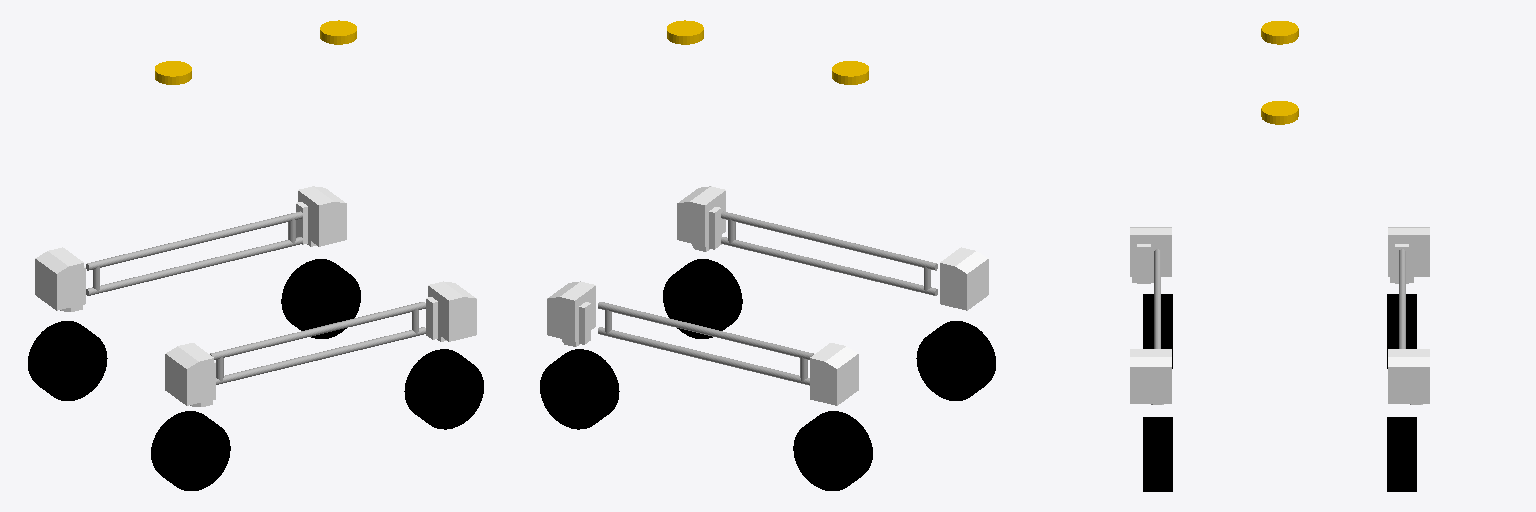
--- Render facts (derived) ---
The picture shows the robot from 3 angles, left to right: view 1: azimuth 30°, elevation 25°; view 2: azimuth 150°, elevation 25°; view 3: azimuth 270°, elevation 25°; orthographic projection.
Robot: thorvald_ii — 36 links, 35 joints (8 continuous, 27 fixed); root link /base_link; default pose: every joint at zero.
Visible links, largest first — view 1: /wheel0_link, /wheel1_link, /wheel3_link, /wheel2_link, /top3, /top0, /top1, /top2, /pipe1_2, /pipe0_2, /pipe1_1, /pipe0_1 (+2 smaller); view 2: /wheel2_link, /wheel3_link, /wheel0_link, /wheel1_link, /top2, /top1, /top0, /top3, /pipe0_2, /pipe1_2, /pipe0_1, /pipe1_1 (+2 smaller); view 3: /top1, /top2, /wheel1_link, /wheel2_link, /top0, /top3, /wheel0_link, /wheel3_link, gps_front, gps_back, /pipe0_2, /pipe1_2.
Link boxes in pixels (x1,y1,x2,y2): /wheel0_link: (151, 411, 230, 490); /wheel1_link: (404, 349, 483, 429); /wheel3_link: (28, 321, 107, 400); /wheel2_link: (281, 259, 360, 338); /top3: (35, 247, 85, 311); /top0: (165, 343, 215, 406); /top1: (426, 281, 476, 341); /top2: (296, 186, 346, 246); /pipe1_2: (86, 211, 302, 270); /pipe0_2: (210, 302, 425, 359); /pipe1_1: (86, 237, 302, 295); /pipe0_1: (216, 327, 425, 384); /wheel2_link: (540, 349, 619, 429); /wheel3_link: (793, 411, 872, 490); /wheel0_link: (916, 321, 995, 400); /wheel1_link: (663, 259, 742, 338); /top2: (547, 281, 595, 346); /top1: (677, 186, 725, 251); /top0: (940, 247, 988, 310); /top3: (810, 343, 858, 405); /pipe0_2: (721, 211, 937, 270); /pipe1_2: (598, 302, 813, 359); /pipe0_1: (721, 237, 937, 295); /pipe1_1: (598, 327, 809, 385); /top1: (1130, 349, 1171, 404); /top2: (1388, 349, 1429, 404); /wheel1_link: (1143, 417, 1172, 491); /wheel2_link: (1387, 417, 1416, 491); /top0: (1130, 227, 1171, 283); /top3: (1388, 227, 1429, 283); /wheel0_link: (1143, 294, 1172, 368); /wheel3_link: (1387, 294, 1416, 368); gps_front: (1261, 101, 1298, 124); gps_back: (1261, 21, 1298, 44); /pipe0_2: (1154, 249, 1160, 348); /pipe1_2: (1399, 249, 1405, 348).
Size in the robot's own frame: 1.96 by 1.62 by 2.12 metres.
4 mesh visuals loaded from 8 distinct referenced files (2 binary STL); not drawn: 17 (reference not matched to a file when rendering).

robot.urdf — thorvald_ii:
<?xml version="1.0" encoding="utf-8"?>

<robot name="thorvald_ii">
  <!-- <gazebo>
    <plugin filename="libthorvald_gazebo_plugins_synch.so" name="_thorvald_gazebo_plugins">
      <alwaysOn>true</alwaysOn>
      <updateRate>20</updateRate>
      <robotNamespace></robotNamespace>
      <commandTopic>base_state</commandTopic>
      <odometryTopic>odometry/gazebo</odometryTopic>
      <odometryFrame>/base_link</odometryFrame>
      <robotBaseFrame>/base_link</robotBaseFrame>
      <steering0>/steering0</steering0>
      <steering1>/steering1</steering1>
      <steering2>/steering2</steering2>
      <steering3>/steering3</steering3>
      <steering4>/steering4</steering4>
      <steering5>/steering5</steering5>
      <steering6>/steering6</steering6>
      <steering7>/steering7</steering7>
      <steering8>/steering8</steering8>
      <steering9>/steering9</steering9>
      <steering10>/steering10</steering10>
      <wheel0>/wheel0</wheel0>
      <wheel1>/wheel1</wheel1>
      <wheel2>/wheel2</wheel2>
      <wheel3>/wheel3</wheel3>
      <wheel4>/wheel4</wheel4>
      <wheel5>/wheel5</wheel5>
      <wheel6>/wheel6</wheel6>
      <wheel7>/wheel7</wheel7>
      <wheel8>/wheel8</wheel8>
      <wheel9>/wheel9</wheel9>
      <wheel10>/wheel10</wheel10>
    </plugin>
  </gazebo> -->
  <!--
    <alwaysOn>true</alwaysOn>
    <robotNamespace>thorvald_ii</robotNamespace>
    <steering2>steering2</steering2>
    <steering1>steering1</steering1>
    <steering3>steering3</steering3>
    <steering0>steering0</steering0>
    <publishOdometryMsg>true</publishOdometryMsg>
    <publishOdometryTf>true</publishOdometryTf>
    <robotBaseFrame>base_link</robotBaseFrame>
    <commandTopic>joint_commands</commandTopic>
    <odometryTopic>odom</odometryTopic>
    <odometryFrame>odom</odometryFrame>
    <updateRate>100.0</updateRate>
    <platform_width>0.570</platform_width>
    <wheel_radius>0.400</wheel_radius>
      <torque>5.0</torque>
    </plugin>
  </gazebo> -->
  <!-- MATERIAL DEFINITIONS -->
  <material name="white">
    <color rgba="1 1 1 1"/>
  </material>
  <material name="black">
    <color rgba="0 0 0 1"/>
  </material>
  <material name="red">
    <color rgba="1 0 0 1"/>
  </material>
  <material name="green">
    <color rgba="0 1 0 1"/>
  </material>
  <material name="alu">
    <color rgba="0.75 0.75 0.75 1"/>
  </material>
  <!-- CREATE ROBOT -->
  <!-- Create base link -->
  <link name="/base_link"/>
  <link name="/top0">
    <inertial>
      <mass value="10.21"/>
      <origin rpy="0 0 0" xyz="0 0 0"/>
      <inertia ixx="0.187252250833" ixy="0.0" ixz="0.0" iyy="0.209836770833" iyz="0.0" izz="0.119499541667"/>
    </inertial>
    <visual>
      <geometry>
        <mesh filename="package://loki_description/meshes/tower_modules/DUMMY-TOWER-M.stl"/>
        <box size="0.265 0.209 0.42"/>
      </geometry>
      <material name="white"/>
    </visual>
    <collision>
      <geometry>
        <mesh filename="package://loki_description/meshes/tower_modules/DUMMY-TOWER-M.stl"/>
        <box size="0.265 0.209 0.42"/>
      </geometry>
    </collision>
  </link>
  <joint name="/base_linktop0" type="fixed">
    <parent link="/base_link"/>
    <child link="/top0"/>
    <origin rpy="0 0 3.14159265359" xyz="-0.782 -0.658 0.65"/>
    <axis xyz="0 0 1"/>
  </joint>
  <link name="/leg0">
    <inertial>
      <mass value="15.64"/>
      <origin rpy="0 0 0" xyz="0 0 0"/>
      <inertia ixx="0.035581" ixy="0.0" ixz="0.0" iyy="0.035581" iyz="0.0" izz="0.012512"/>
    </inertial>
    <visual>
      <origin rpy="0 0 3.14159265359" xyz="0 0 0"/>
      <geometry>
        <mesh filename="package://loki_description/meshes/drive_modules/836745-5-DUMMY-RevA.stl"/>
        <cylinder length="-0.15" radius="0.04"/>
        <!--mesh filename="package://thorvald_base/meshes/top_chassis.dae"/-->
      </geometry>
      <material name="white"/>
    </visual>
    <collision>
      <origin rpy="0 0 3.14159265359" xyz="0 0 0"/>
      <geometry>
        <mesh filename="package://loki_description/meshes/drive_modules/836745-5-DUMMY-RevA.stl"/>
        <cylinder length="-0.15" radius="0.04"/>
      </geometry>
    </collision>
  </link>
  <joint name="/steering0" type="continuous">
    <parent link="/base_link"/>
    <child link="/leg0"/>
    <origin rpy="0 0 0" xyz="-0.782 -0.658 0.2"/>
    <axis xyz="0 0 1"/>
    <dynamics damping="100" friction="10000"/>
  </joint>
  <transmission name="steering0_tran">
    <type>transmission_interface/SimpleTransmission</type>
    <joint name="/steering0">
      <hardwareInterface>hardware_interface/EffortJointInterface</hardwareInterface>
    </joint>
    <actuator name="steering0_motor">
      <hardwareInterface>hardware_interface/EffortJointInterface</hardwareInterface>
      <mechanicalReduction>1</mechanicalReduction>
    </actuator>
  </transmission>
  <link name="/wheel0_link">
    <inertial>
      <mass value="6.0"/>
      <origin rpy="0 0 0" xyz="0 0 0"/>
      <inertia ixx="0.0728" ixy="0.0" ixz="0.0" iyy="0.0728" iyz="0.0" izz="0.12"/>
    </inertial>
    <visual>
      <geometry>
        <cylinder length="0.16" radius="0.2"/>
        <!-- <box size = "0.00001 0.00001 0.00001"/> -->
      </geometry>
      <material name="black"/>
    </visual>
    <collision>
      <geometry>
        <cylinder length="0.16" radius="0.2"/>
        <!-- <box size = "0.00001 0.00001 0.00001"/> -->
      </geometry>
    </collision>
  </link>
  <gazebo reference="/wheel0_link">
    <material>Gazebo/Black</material>
    <mu1 value="2"/>
    <mu2 value="2"/>
  </gazebo>
  <joint name="/wheel0" type="continuous">
    <parent link="/leg0"/>
    <child link="/wheel0_link"/>
    <origin rpy="-1.57079632679 0 0" xyz="0 0 0"/>
    <axis xyz="0 0 1"/>
    <dynamics damping="100" friction="1000"/>
  </joint>
  <transmission name="wheel0_tran">
    <type>transmission_interface/SimpleTransmission</type>
    <joint name="/wheel0">
      <hardwareInterface>hardware_interface/EffortJointInterface</hardwareInterface>
    </joint>
    <actuator name="wheel0_motor">
      <hardwareInterface>hardware_interface/EffortJointInterface</hardwareInterface>
      <mechanicalReduction>1</mechanicalReduction>
    </actuator>
  </transmission>
  <!-- -->
  <!--
    <link name="$(arg tf_prefix)/rod_l_${wheel}">
      <visual>
        <geometry>
          <cylinder length="20" radius="0.01"/>
        </geometry>
	<material name="red" />
      </visual>
    </link>
      
    
    <joint name="$(arg tf_prefix)/rod_l_${wheel}" type="fixed">
      <parent link="$(arg tf_prefix)/${wheel}_link"/>
      <child link="$(arg tf_prefix)/rod_l_${wheel}"/>
      <origin xyz="0 0 10" rpy="0 0 0"/>
      <axis xyz="0 0 1"/>
    </joint>

    <link name="$(arg tf_prefix)/rod_r_${wheel}">
      <visual>
        <geometry>
          <cylinder length="20" radius="0.01"/>
        </geometry>
	<material name="green" />
      </visual>
    </link>
    
    <joint name="$(arg tf_prefix)/rod_r_${wheel}" type="fixed">
      <parent link="$(arg tf_prefix)/${wheel}_link"/>
      <child link="$(arg tf_prefix)/rod_r_${wheel}"/>
      <origin xyz="0 0 -10" rpy="0 0 0"/>
      <axis xyz="0 0 1"/>
    </joint>



    <link name="$(arg tf_prefix)/rod2_l_${wheel}">
      <visual>
        <geometry>
          <cylinder length="80" radius="0.01"/>
        </geometry>
	<material name="red" />
      </visual>
    </link>

    <joint name="$(arg tf_prefix)/rod2_l_${wheel}" type="fixed">
      <parent link="$(arg tf_prefix)/rod_l_${wheel}"/>
      <child link="$(arg tf_prefix)/rod2_l_${wheel}"/>
      <origin xyz="0 0 40" rpy="0 0 0"/>
      <axis xyz="0 0 1"/>
    </joint>

    <link name="$(arg tf_prefix)/rod2_r_${wheel}">
      <visual>
        <geometry>
          <cylinder length="80" radius="0.01"/>
        </geometry>
	<material name="green" />
      </visual>
    </link>
    
    <joint name="$(arg tf_prefix)/rod2_r_${wheel}" type="fixed">
      <parent link="$(arg tf_prefix)/rod_r_${wheel}"/>
      <child link="$(arg tf_prefix)/rod2_r_${wheel}"/>
      <origin xyz="0 0 -40" rpy="0 0 0"/>
      <axis xyz="0 0 1"/>
    </joint>
    -->
  <!-- -->
  <link name="/top1">
    <inertial>
      <mass value="10.21"/>
      <origin rpy="0 0 0" xyz="0 0 0"/>
      <inertia ixx="0.187252250833" ixy="0.0" ixz="0.0" iyy="0.209836770833" iyz="0.0" izz="0.119499541667"/>
    </inertial>
    <visual>
      <geometry>
        <mesh filename="package://loki_description/meshes/tower_modules/DUMMY-TOWER-MIRROR-M.stl"/>
        <box size="0.265 0.209 0.42"/>
      </geometry>
      <material name="white"/>
    </visual>
    <collision>
      <geometry>
        <mesh filename="package://loki_description/meshes/tower_modules/DUMMY-TOWER-MIRROR-M.stl"/>
        <box size="0.265 0.209 0.42"/>
      </geometry>
    </collision>
  </link>
  <joint name="/base_linktop1" type="fixed">
    <parent link="/base_link"/>
    <child link="/top1"/>
    <origin rpy="0 0 0" xyz="0.782 -0.658 0.65"/>
    <axis xyz="0 0 1"/>
  </joint>
  <link name="/leg1">
    <inertial>
      <mass value="15.64"/>
      <origin rpy="0 0 0" xyz="0 0 0"/>
      <inertia ixx="0.035581" ixy="0.0" ixz="0.0" iyy="0.035581" iyz="0.0" izz="0.012512"/>
    </inertial>
    <visual>
      <origin rpy="0 0 0" xyz="0 0 0"/>
      <geometry>
        <mesh filename="package://loki_description/meshes/drive_modules/836745-5-DUMMY-MIRROR-RevA.stl"/>
        <cylinder length="-0.15" radius="0.04"/>
        <!--mesh filename="package://thorvald_base/meshes/top_chassis.dae"/-->
      </geometry>
      <material name="white"/>
    </visual>
    <collision>
      <origin rpy="0 0 0" xyz="0 0 0"/>
      <geometry>
        <mesh filename="package://loki_description/meshes/drive_modules/836745-5-DUMMY-MIRROR-RevA.stl"/>
        <cylinder length="-0.15" radius="0.04"/>
      </geometry>
    </collision>
  </link>
  <joint name="/steering1" type="continuous">
    <parent link="/base_link"/>
    <child link="/leg1"/>
    <origin rpy="0 0 0" xyz="0.782 -0.658 0.2"/>
    <axis xyz="0 0 1"/>
    <dynamics damping="100" friction="10000"/>
  </joint>
  <transmission name="steering1_tran">
    <type>transmission_interface/SimpleTransmission</type>
    <joint name="/steering1">
      <hardwareInterface>hardware_interface/EffortJointInterface</hardwareInterface>
    </joint>
    <actuator name="steering1_motor">
      <hardwareInterface>hardware_interface/EffortJointInterface</hardwareInterface>
      <mechanicalReduction>1</mechanicalReduction>
    </actuator>
  </transmission>
  <link name="/wheel1_link">
    <inertial>
      <mass value="6.0"/>
      <origin rpy="0 0 0" xyz="0 0 0"/>
      <inertia ixx="0.0728" ixy="0.0" ixz="0.0" iyy="0.0728" iyz="0.0" izz="0.12"/>
    </inertial>
    <visual>
      <geometry>
        <cylinder length="0.16" radius="0.2"/>
        <!-- <box size = "0.00001 0.00001 0.00001"/> -->
      </geometry>
      <material name="black"/>
    </visual>
    <collision>
      <geometry>
        <cylinder length="0.16" radius="0.2"/>
        <!-- <box size = "0.00001 0.00001 0.00001"/> -->
      </geometry>
    </collision>
  </link>
  <gazebo reference="/wheel1_link">
    <material>Gazebo/Black</material>
    <mu1 value="2"/>
    <mu2 value="2"/>
  </gazebo>
  <joint name="/wheel1" type="continuous">
    <parent link="/leg1"/>
    <child link="/wheel1_link"/>
    <origin rpy="-1.57079632679 0 0" xyz="0 0 0"/>
    <axis xyz="0 0 1"/>
    <dynamics damping="100" friction="1000"/>
  </joint>
  <transmission name="wheel1_tran">
    <type>transmission_interface/SimpleTransmission</type>
    <joint name="/wheel1">
      <hardwareInterface>hardware_interface/EffortJointInterface</hardwareInterface>
    </joint>
    <actuator name="wheel1_motor">
      <hardwareInterface>hardware_interface/EffortJointInterface</hardwareInterface>
      <mechanicalReduction>1</mechanicalReduction>
    </actuator>
  </transmission>
  <!-- -->
  <!--
    <link name="$(arg tf_prefix)/rod_l_${wheel}">
      <visual>
        <geometry>
          <cylinder length="20" radius="0.01"/>
        </geometry>
	<material name="red" />
      </visual>
    </link>
      
    
    <joint name="$(arg tf_prefix)/rod_l_${wheel}" type="fixed">
      <parent link="$(arg tf_prefix)/${wheel}_link"/>
      <child link="$(arg tf_prefix)/rod_l_${wheel}"/>
      <origin xyz="0 0 10" rpy="0 0 0"/>
      <axis xyz="0 0 1"/>
    </joint>

    <link name="$(arg tf_prefix)/rod_r_${wheel}">
      <visual>
        <geometry>
          <cylinder length="20" radius="0.01"/>
        </geometry>
	<material name="green" />
      </visual>
    </link>
    
    <joint name="$(arg tf_prefix)/rod_r_${wheel}" type="fixed">
      <parent link="$(arg tf_prefix)/${wheel}_link"/>
      <child link="$(arg tf_prefix)/rod_r_${wheel}"/>
      <origin xyz="0 0 -10" rpy="0 0 0"/>
      <axis xyz="0 0 1"/>
    </joint>



    <link name="$(arg tf_prefix)/rod2_l_${wheel}">
      <visual>
        <geometry>
          <cylinder length="80" radius="0.01"/>
        </geometry>
	<material name="red" />
      </visual>
    </link>

    <joint name="$(arg tf_prefix)/rod2_l_${wheel}" type="fixed">
      <parent link="$(arg tf_prefix)/rod_l_${wheel}"/>
      <child link="$(arg tf_prefix)/rod2_l_${wheel}"/>
      <origin xyz="0 0 40" rpy="0 0 0"/>
      <axis xyz="0 0 1"/>
    </joint>

    <link name="$(arg tf_prefix)/rod2_r_${wheel}">
      <visual>
        <geometry>
          <cylinder length="80" radius="0.01"/>
        </geometry>
	<material name="green" />
      </visual>
    </link>
    
    <joint name="$(arg tf_prefix)/rod2_r_${wheel}" type="fixed">
      <parent link="$(arg tf_prefix)/rod_r_${wheel}"/>
      <child link="$(arg tf_prefix)/rod2_r_${wheel}"/>
      <origin xyz="0 0 -40" rpy="0 0 0"/>
      <axis xyz="0 0 1"/>
    </joint>
    -->
  <!-- -->
  <link name="/top2">
    <inertial>
      <mass value="10.21"/>
      <origin rpy="0 0 0" xyz="0 0 0"/>
      <inertia ixx="0.187252250833" ixy="0.0" ixz="0.0" iyy="0.209836770833" iyz="0.0" izz="0.119499541667"/>
    </inertial>
    <visual>
      <geometry>
        <mesh filename="package://loki_description/meshes/tower_modules/DUMMY-TOWER-M.stl"/>
        <box size="0.265 0.209 0.42"/>
      </geometry>
      <material name="white"/>
    </visual>
    <collision>
      <geometry>
        <mesh filename="package://loki_description/meshes/tower_modules/DUMMY-TOWER-M.stl"/>
        <box size="0.265 0.209 0.42"/>
      </geometry>
    </collision>
  </link>
  <joint name="/base_linktop2" type="fixed">
    <parent link="/base_link"/>
    <child link="/top2"/>
    <origin rpy="0 0 0" xyz="0.782 0.658 0.65"/>
    <axis xyz="0 0 1"/>
  </joint>
  <link name="/leg2">
    <inertial>
      <mass value="15.64"/>
      <origin rpy="0 0 0" xyz="0 0 0"/>
      <inertia ixx="0.035581" ixy="0.0" ixz="0.0" iyy="0.035581" iyz="0.0" izz="0.012512"/>
    </inertial>
    <visual>
      <origin rpy="0 0 0" xyz="0 0 0"/>
      <geometry>
        <mesh filename="package://loki_description/meshes/drive_modules/836745-5-DUMMY-RevA.stl"/>
        <cylinder length="-0.15" radius="0.04"/>
        <!--mesh filename="package://thorvald_base/meshes/top_chassis.dae"/-->
      </geometry>
      <material name="white"/>
    </visual>
    <collision>
      <origin rpy="0 0 0" xyz="0 0 0"/>
      <geometry>
        <mesh filename="package://loki_description/meshes/drive_modules/836745-5-DUMMY-RevA.stl"/>
        <cylinder length="-0.15" radius="0.04"/>
      </geometry>
    </collision>
  </link>
  <joint name="/steering2" type="continuous">
    <parent link="/base_link"/>
    <child link="/leg2"/>
    <origin rpy="0 0 0" xyz="0.782 0.658 0.2"/>
    <axis xyz="0 0 1"/>
    <dynamics damping="100" friction="10000"/>
  </joint>
  <transmission name="steering2_tran">
    <type>transmission_interface/SimpleTransmission</type>
    <joint name="/steering2">
      <hardwareInterface>hardware_interface/EffortJointInterface</hardwareInterface>
    </joint>
    <actuator name="steering2_motor">
      <hardwareInterface>hardware_interface/EffortJointInterface</hardwareInterface>
      <mechanicalReduction>1</mechanicalReduction>
    </actuator>
  </transmission>
  <link name="/wheel2_link">
    <inertial>
      <mass value="6.0"/>
      <origin rpy="0 0 0" xyz="0 0 0"/>
      <inertia ixx="0.0728" ixy="0.0" ixz="0.0" iyy="0.0728" iyz="0.0" izz="0.12"/>
    </inertial>
    <visual>
      <geometry>
        <cylinder length="0.16" radius="0.2"/>
        <!-- <box size = "0.00001 0.00001 0.00001"/> -->
      </geometry>
      <material name="black"/>
    </visual>
    <collision>
      <geometry>
        <cylinder length="0.16" radius="0.2"/>
        <!-- <box size = "0.00001 0.00001 0.00001"/> -->
      </geometry>
    </collision>
  </link>
  <gazebo reference="/wheel2_link">
    <material>Gazebo/Black</material>
    <mu1 value="2"/>
    <mu2 value="2"/>
  </gazebo>
  <joint name="/wheel2" type="continuous">
    <parent link="/leg2"/>
    <child link="/wheel2_link"/>
    <origin rpy="-1.57079632679 0 0" xyz="0 0 0"/>
    <axis xyz="0 0 1"/>
    <dynamics damping="100" friction="1000"/>
  </joint>
  <transmission name="wheel2_tran">
    <type>transmission_interface/SimpleTransmission</type>
    <joint name="/wheel2">
      <hardwareInterface>hardware_interface/EffortJointInterface</hardwareInterface>
    </joint>
    <actuator name="wheel2_motor">
      <hardwareInterface>hardware_interface/EffortJointInterface</hardwareInterface>
      <mechanicalReduction>1</mechanicalReduction>
    </actuator>
  </transmission>
  <!-- -->
  <!--
    <link name="$(arg tf_prefix)/rod_l_${wheel}">
      <visual>
        <geometry>
          <cylinder length="20" radius="0.01"/>
        </geometry>
	<material name="red" />
      </visual>
    </link>
      
    
    <joint name="$(arg tf_prefix)/rod_l_${wheel}" type="fixed">
      <parent link="$(arg tf_prefix)/${wheel}_link"/>
      <child link="$(arg tf_prefix)/rod_l_${wheel}"/>
      <origin xyz="0 0 10" rpy="0 0 0"/>
      <axis xyz="0 0 1"/>
    </joint>

    <link name="$(arg tf_prefix)/rod_r_${wheel}">
      <visual>
        <geometry>
          <cylinder length="20" radius="0.01"/>
        </geometry>
	<material name="green" />
      </visual>
    </link>
    
    <joint name="$(arg tf_prefix)/rod_r_${wheel}" type="fixed">
      <parent link="$(arg tf_prefix)/${wheel}_link"/>
      <child link="$(arg tf_prefix)/rod_r_${wheel}"/>
      <origin xyz="0 0 -10" rpy="0 0 0"/>
      <axis xyz="0 0 1"/>
    </joint>



    <link name="$(arg tf_prefix)/rod2_l_${wheel}">
      <visual>
        <geometry>
          <cylinder length="80" radius="0.01"/>
        </geometry>
	<material name="red" />
      </visual>
    </link>

    <joint name="$(arg tf_prefix)/rod2_l_${wheel}" type="fixed">
      <parent link="$(arg tf_prefix)/rod_l_${wheel}"/>
      <child link="$(arg tf_prefix)/rod2_l_${wheel}"/>
      <origin xyz="0 0 40" rpy="0 0 0"/>
      <axis xyz="0 0 1"/>
    </joint>

    <link name="$(arg tf_prefix)/rod2_r_${wheel}">
      <visual>
        <geometry>
          <cylinder length="80" radius="0.01"/>
        </geometry>
	<material name="green" />
      </visual>
    </link>
    
    <joint name="$(arg tf_prefix)/rod2_r_${wheel}" type="fixed">
      <parent link="$(arg tf_prefix)/rod_r_${wheel}"/>
      <child link="$(arg tf_prefix)/rod2_r_${wheel}"/>
      <origin xyz="0 0 -40" rpy="0 0 0"/>
      <axis xyz="0 0 1"/>
    </joint>
    -->
  <!-- -->
  <link name="/top3">
    <inertial>
      <mass value="10.21"/>
      <origin rpy="0 0 0" xyz="0 0 0"/>
      <inertia ixx="0.187252250833" ixy="0.0" ixz="0.0" iyy="0.209836770833" iyz="0.0" izz="0.119499541667"/>
    </inertial>
    <visual>
      <geometry>
        <mesh filename="package://loki_description/meshes/tower_modules/DUMMY-TOWER-MIRROR-M.stl"/>
        <box size="0.265 0.209 0.42"/>
      </geometry>
      <material name="white"/>
    </visual>
    <collision>
      <geometry>
        <mesh filename="package://loki_description/meshes/tower_modules/DUMMY-TOWER-MIRROR-M.stl"/>
        <box size="0.265 0.209 0.42"/>
      </geometry>
    </collision>
  </link>
  <joint name="/base_linktop3" type="fixed">
    <parent link="/base_link"/>
    <child link="/top3"/>
    <origin rpy="0 0 3.14159265359" xyz="-0.782 0.658 0.65"/>
    <axis xyz="0 0 1"/>
  </joint>
  <link name="/leg3">
    <inertial>
      <mass value="15.64"/>
      <origin rpy="0 0 0" xyz="0 0 0"/>
      <inertia ixx="0.035581" ixy="0.0" ixz="0.0" iyy="0.035581" iyz="0.0" izz="0.012512"/>
    </inertial>
    <visual>
      <origin rpy="0 0 3.14159265359" xyz="0 0 0"/>
      <geometry>
        <mesh filename="package://loki_description/meshes/drive_modules/836745-5-DUMMY-MIRROR-RevA.stl"/>
        <cylinder length="-0.15" radius="0.04"/>
        <!--mesh filename="package://thorvald_base/meshes/top_chassis.dae"/-->
      </geometry>
      <material name="white"/>
    </visual>
    <collision>
      <origin rpy="0 0 3.14159265359" xyz="0 0 0"/>
      <geometry>
        <mesh filename="package://loki_description/meshes/drive_modules/836745-5-DUMMY-MIRROR-RevA.stl"/>
        <cylinder length="-0.15" radius="0.04"/>
      </geometry>
    </collision>
  </link>
  <joint name="/steering3" type="continuous">
    <parent link="/base_link"/>
    <child link="/leg3"/>
    <origin rpy="0 0 0" xyz="-0.782 0.658 0.2"/>
    <axis xyz="0 0 1"/>
    <dynamics damping="100" friction="10000"/>
  </joint>
  <transmission name="steering3_tran">
    <type>transmission_interface/SimpleTransmission</type>
    <joint name="/steering3">
      <hardwareInterface>hardware_interface/EffortJointInterface</hardwareInterface>
    </joint>
    <actuator name="steering3_motor">
      <hardwareInterface>hardware_interface/EffortJointInterface</hardwareInterface>
      <mechanicalReduction>1</mechanicalReduction>
    </actuator>
  </transmission>
  <link name="/wheel3_link">
    <inertial>
      <mass value="6.0"/>
      <origin rpy="0 0 0" xyz="0 0 0"/>
      <inertia ixx="0.0728" ixy="0.0" ixz="0.0" iyy="0.0728" iyz="0.0" izz="0.12"/>
    </inertial>
    <visual>
      <geometry>
        <cylinder length="0.16" radius="0.2"/>
        <!-- <box size = "0.00001 0.00001 0.00001"/> -->
      </geometry>
      <material name="black"/>
    </visual>
    <collision>
      <geometry>
        <cylinder length="0.16" radius="0.2"/>
        <!-- <box size = "0.00001 0.00001 0.00001"/> -->
      </geometry>
    </collision>
  </link>
  <gazebo reference="/wheel3_link">
    <material>Gazebo/Black</material>
    <mu1 value="2"/>
    <mu2 value="2"/>
  </gazebo>
  <joint name="/wheel3" type="continuous">
    <parent link="/leg3"/>
    <child link="/wheel3_link"/>
    <origin rpy="-1.57079632679 0 0" xyz="0 0 0"/>
    <axis xyz="0 0 1"/>
    <dynamics damping="100" friction="1000"/>
  </joint>
  <transmission name="wheel3_tran">
    <type>transmission_interface/SimpleTransmission</type>
    <joint name="/wheel3">
      <hardwareInterface>hardware_interface/EffortJointInterface</hardwareInterface>
    </joint>
    <actuator name="wheel3_motor">
      <hardwareInterface>hardware_interface/EffortJointInterface</hardwareInterface>
      <mechanicalReduction>1</mechanicalReduction>
    </actuator>
  </transmission>
  <!-- -->
  <!--
    <link name="$(arg tf_prefix)/rod_l_${wheel}">
      <visual>
        <geometry>
          <cylinder length="20" radius="0.01"/>
        </geometry>
	<material name="red" />
      </visual>
    </link>
      
    
    <joint name="$(arg tf_prefix)/rod_l_${wheel}" type="fixed">
      <parent link="$(arg tf_prefix)/${wheel}_link"/>
      <child link="$(arg tf_prefix)/rod_l_${wheel}"/>
      <origin xyz="0 0 10" rpy="0 0 0"/>
      <axis xyz="0 0 1"/>
    </joint>

    <link name="$(arg tf_prefix)/rod_r_${wheel}">
      <visual>
        <geometry>
          <cylinder length="20" radius="0.01"/>
        </geometry>
	<material name="green" />
      </visual>
    </link>
    
    <joint name="$(arg tf_prefix)/rod_r_${wheel}" type="fixed">
      <parent link="$(arg tf_prefix)/${wheel}_link"/>
      <child link="$(arg tf_prefix)/rod_r_${wheel}"/>
      <origin xyz="0 0 -10" rpy="0 0 0"/>
      <axis xyz="0 0 1"/>
    </joint>



    <link name="$(arg tf_prefix)/rod2_l_${wheel}">
      <visual>
        <geometry>
          <cylinder length="80" radius="0.01"/>
        </geometry>
	<material name="red" />
      </visual>
    </link>

    <joint name="$(arg tf_prefix)/rod2_l_${wheel}" type="fixed">
      <parent link="$(arg tf_prefix)/rod_l_${wheel}"/>
      <child link="$(arg tf_prefix)/rod2_l_${wheel}"/>
      <origin xyz="0 0 40" rpy="0 0 0"/>
      <axis xyz="0 0 1"/>
    </joint>

    <link name="$(arg tf_prefix)/rod2_r_${wheel}">
      <visual>
        <geometry>
          <cylinder length="80" radius="0.01"/>
        </geometry>
	<material name="green" />
      </visual>
    </link>
    
    <joint name="$(arg tf_prefix)/rod2_r_${wheel}" type="fixed">
      <parent link="$(arg tf_prefix)/rod_r_${wheel}"/>
      <child link="$(arg tf_prefix)/rod2_r_${wheel}"/>
      <origin xyz="0 0 -40" rpy="0 0 0"/>
      <axis xyz="0 0 1"/>
    </joint>
    -->
  <!-- -->
  <link name="/corner0_1">
    <inertial>
      <mass value="0.915"/>
      <origin rpy="0 0 0" xyz="0 0 0"/>
      <inertia ixx="0.001282525" ixy="0.0" ixz="0.0" iyy="0.001751005" iyz="0.0" izz="0.002989"/>
    </inertial>
    <visual>
      <geometry>
        <mesh filename="package://loki_description/meshes/clamps/DUMMY-T-BRACKET.stl"/>
        <box size="0.140 0.116 0.058"/>
      </geometry>
      <material name="alu"/>
    </visual>
    <collision>
      <geometry>
        <box size="0.140 0.116 0.058"/>
      </geometry>
    </collision>
  </link>
  <link name="/corner0_2">
    <inertial>
      <mass value="0.915"/>
      <origin rpy="0 0 0" xyz="0 0 0"/>
      <inertia ixx="0.001282525" ixy="0.0" ixz="0.0" iyy="0.001751005" iyz="0.0" izz="0.002989"/>
    </inertial>
    <visual>
      <geometry>
        <mesh filename="package://loki_description/meshes/clamps/DUMMY-T-BRACKET.stl"/>
        <box size="0.140 0.116 0.058"/>
      </geometry>
      <material name="alu"/>
    </visual>
    <collision>
      <geometry>
        <box size="0.140 0.116 0.058"/>
      </geometry>
    </collision>
  </link>
  <link name="/corner0">
    <inertial>
      <mass value="0.915"/>
      <origin rpy="0 0 0" xyz="0 0 0"/>
      <inertia ixx="0.001807125" ixy="0.0" ixz="0.0" iyy="0.001807125" iyz="0.0" izz="0.000183"/>
    </inertial>
    <visual>
      <geometry>
        <cylinder length="0.15" radius="0.02"/>
        <!-- <box size = "0.00001 0.00001 0.00001" /> -->
      </geometry>
      <material name="alu"/>
    </visual>
    <collision>
      <geometry>
        <cylinder length="0.15" radius="0.02"/>
      </geometry>
    </collision>
  </link>
  <joint name="/corner0_link_1" type="fixed">
    <parent link="/corner0"/>
    <child link="/corner0_1"/>
    <origin rpy="0 0 0" xyz="0.057 0 -0.075"/>
    <axis xyz="0 0 1"/>
  </joint>
  <joint name="/corner0_link_2" type="fixed">
    <parent link="/corner0"/>
    <child link="/corner0_2"/>
    <origin rpy="0 0 0" xyz="0.057 0 0.075"/>
    <axis xyz="0 0 1"/>
  </joint>
  <joint name="/corner0_link" type="fixed">
    <parent link="/base_link"/>
    <child link="/corner0"/>
    <origin rpy="0 0 -3.14159265359" xyz="-0.603 -0.658 0.65"/>
    <axis xyz="0 0 1"/>
  </joint>
  <link name="/corner1_1">
    <inertial>
      <mass value="0.915"/>
      <origin rpy="0 0 0" xyz="0 0 0"/>
      <inertia ixx="0.001282525" ixy="0.0" ixz="0.0" iyy="0.001751005" iyz="0.0" izz="0.002989"/>
    </inertial>
    <visual>
      <geometry>
        <mesh filename="package://loki_description/meshes/clamps/DUMMY-T-BRACKET.stl"/>
        <box size="0.140 0.116 0.058"/>
      </geometry>
      <material name="alu"/>
    </visual>
    <collision>
      <geometry>
        <box size="0.140 0.116 0.058"/>
      </geometry>
    </collision>
  </link>
  <link name="/corner1_2">
    <inertial>
      <mass value="0.915"/>
      <origin rpy="0 0 0" xyz="0 0 0"/>
      <inertia ixx="0.001282525" ixy="0.0" ixz="0.0" iyy="0.001751005" iyz="0.0" izz="0.002989"/>
    </inertial>
    <visual>
      <geometry>
        <mesh filename="package://loki_description/meshes/clamps/DUMMY-T-BRACKET.stl"/>
        <box size="0.140 0.116 0.058"/>
      </geometry>
      <material name="alu"/>
    </visual>
    <collision>
      <geometry>
        <box size="0.140 0.116 0.058"/>
      </geometry>
    </collision>
  </link>
  <link name="/corner1">
    <inertial>
      <mass value="0.915"/>
      <origin rpy="0 0 0" xyz="0 0 0"/>
      <inertia ixx="0.001807125" ixy="0.0" ixz="0.0" iyy="0.001807125" iyz="0.0" izz="0.000183"/>
    </inertial>
    <visual>
      <geometry>
        <cylinder length="0.15" radius="0.02"/>
        <!-- <box size = "0.00001 0.00001 0.00001" /> -->
      </geometry>
      <material name="alu"/>
    </visual>
    <collision>
      <geometry>
        <cylinder length="0.15" radius="0.02"/>
      </geometry>
    </collision>
  </link>
  <joint name="/corner1_link_1" type="fixed">
    <parent link="/corner1"/>
    <child link="/corner1_1"/>
    <origin rpy="0 0 0" xyz="0.057 0 -0.075"/>
    <axis xyz="0 0 1"/>
  </joint>
  <joint name="/corner1_link_2" type="fixed">
    <parent link="/corner1"/>
    <child link="/corner1_2"/>
    <origin rpy="0 0 0" xyz="0.057 0 0.075"/>
    <axis xyz="0 0 1"/>
  </joint>
  <joint name="/corner1_link" type="fixed">
    <parent link="/base_link"/>
    <child link="/corner1"/>
    <origin rpy="0 0 0" xyz="0.603 -0.658 0.65"/>
    <axis xyz="0 0 1"/>
  </joint>
  <link name="/corner2_1">
    <inertial>
      <mass value="0.915"/>
      <origin rpy="0 0 0" xyz="0 0 0"/>
      <inertia ixx="0.001282525" ixy="0.0" ixz="0.0" iyy="0.001751005" iyz="0.0" izz="0.002989"/>
    </inertial>
    <visual>
      <geometry>
        <mesh filename="package://loki_description/meshes/clamps/DUMMY-T-BRACKET.stl"/>
        <box size="0.140 0.116 0.058"/>
      </geometry>
      <material name="alu"/>
    </visual>
    <collision>
      <geometry>
        <box size="0.140 0.116 0.058"/>
      </geometry>
    </collision>
  </link>
  <link name="/corner2_2">
    <inertial>
      <mass value="0.915"/>
      <origin rpy="0 0 0" xyz="0 0 0"/>
      <inertia ixx="0.001282525" ixy="0.0" ixz="0.0" iyy="0.001751005" iyz="0.0" izz="0.002989"/>
    </inertial>
    <visual>
      <geometry>
        <mesh filename="package://loki_description/meshes/clamps/DUMMY-T-BRACKET.stl"/>
        <box size="0.140 0.116 0.058"/>
      </geometry>
      <material name="alu"/>
    </visual>
    <collision>
      <geometry>
        <box size="0.140 0.116 0.058"/>
      </geometry>
    </collision>
  </link>
  <link name="/corner2">
    <inertial>
      <mass value="0.915"/>
      <origin rpy="0 0 0" xyz="0 0 0"/>
      <inertia ixx="0.001807125" ixy="0.0" ixz="0.0" iyy="0.001807125" iyz="0.0" izz="0.000183"/>
    </inertial>
    <visual>
      <geometry>
        <cylinder length="0.15" radius="0.02"/>
        <!-- <box size = "0.00001 0.00001 0.00001" /> -->
      </geometry>
      <material name="alu"/>
    </visual>
    <collision>
      <geometry>
        <cylinder length="0.15" radius="0.02"/>
      </geometry>
    </collision>
  </link>
  <joint name="/corner2_link_1" type="fixed">
    <parent link="/corner2"/>
    <child link="/corner2_1"/>
    <origin rpy="0 0 0" xyz="0.057 0 -0.075"/>
    <axis xyz="0 0 1"/>
  </joint>
  <joint name="/corner2_link_2" type="fixed">
    <parent link="/corner2"/>
    <child link="/corner2_2"/>
    <origin rpy="0 0 0" xyz="0.057 0 0.075"/>
    <axis xyz="0 0 1"/>
  </joint>
  <joint name="/corner2_link" type="fixed">
    <parent link="/base_link"/>
    <child link="/corner2"/>
    <origin rpy="0 0 0" xyz="0.603 0.658 0.65"/>
    <axis xyz="0 0 1"/>
  </joint>
  <link name="/corner3_1">
    <inertial>
      <mass value="0.915"/>
      <origin rpy="0 0 0" xyz="0 0 0"/>
      <inertia ixx="0.001282525" ixy="0.0" ixz="0.0" iyy="0.001751005" iyz="0.0" izz="0.002989"/>
    </inertial>
    <visual>
      <geometry>
        <mesh filename="package://loki_description/meshes/clamps/DUMMY-T-BRACKET.stl"/>
        <box size="0.140 0.116 0.058"/>
      </geometry>
      <material name="alu"/>
    </visual>
    <collision>
      <geometry>
        <box size="0.140 0.116 0.058"/>
      </geometry>
    </collision>
  </link>
  <link name="/corner3_2">
    <inertial>
      <mass value="0.915"/>
      <origin rpy="0 0 0" xyz="0 0 0"/>
      <inertia ixx="0.001282525" ixy="0.0" ixz="0.0" iyy="0.001751005" iyz="0.0" izz="0.002989"/>
    </inertial>
    <visual>
      <geometry>
        <mesh filename="package://loki_description/meshes/clamps/DUMMY-T-BRACKET.stl"/>
        <box size="0.140 0.116 0.058"/>
      </geometry>
      <material name="alu"/>
    </visual>
    <collision>
      <geometry>
        <box size="0.140 0.116 0.058"/>
      </geometry>
    </collision>
  </link>
  <link name="/corner3">
    <inertial>
      <mass value="0.915"/>
      <origin rpy="0 0 0" xyz="0 0 0"/>
      <inertia ixx="0.001807125" ixy="0.0" ixz="0.0" iyy="0.001807125" iyz="0.0" izz="0.000183"/>
    </inertial>
    <visual>
      <geometry>
        <cylinder length="0.15" radius="0.02"/>
        <!-- <box size = "0.00001 0.00001 0.00001" /> -->
      </geometry>
      <material name="alu"/>
    </visual>
    <collision>
      <geometry>
        <cylinder length="0.15" radius="0.02"/>
      </geometry>
    </collision>
  </link>
  <joint name="/corner3_link_1" type="fixed">
    <parent link="/corner3"/>
    <child link="/corner3_1"/>
    <origin rpy="0 0 0" xyz="0.057 0 -0.075"/>
    <axis xyz="0 0 1"/>
  </joint>
  <joint name="/corner3_link_2" type="fixed">
    <parent link="/corner3"/>
    <child link="/corner3_2"/>
    <origin rpy="0 0 0" xyz="0.057 0 0.075"/>
    <axis xyz="0 0 1"/>
  </joint>
  <joint name="/corner3_link" type="fixed">
    <parent link="/base_link"/>
    <child link="/corner3"/>
    <origin rpy="0 0 -3.14159265359" xyz="-0.603 0.658 0.65"/>
    <axis xyz="0 0 1"/>
  </joint>
  <link name="/pipe0_1">
    <inertial>
      <mass value="1"/>
      <origin rpy="0 0 0" xyz="0 0 0"/>
      <inertia ixx="0.1453" ixy="0.0" ixz="0.0" iyy="0.1453" iyz="0.0" izz="0.0002"/>
    </inertial>
    <visual>
      <geometry>
        <cylinder length="1.32" radius="0.02"/>
      </geometry>
      <material name="alu"/>
    </visual>
    <collision>
      <geometry>
        <cylinder length="1.32" radius="0.02"/>
      </geometry>
    </collision>
  </link>
  <link name="/pipe0_2">
    <inertial>
      <mass value="1"/>
      <origin rpy="0 0 0" xyz="0 0 0"/>
      <inertia ixx="0.1453" ixy="0.0" ixz="0.0" iyy="0.1453" iyz="0.0" izz="0.0002"/>
    </inertial>
    <visual>
      <geometry>
        <cylinder length="1.32" radius="0.02"/>
      </geometry>
      <material name="alu"/>
    </visual>
    <collision>
      <geometry>
        <cylinder length="1.32" radius="0.02"/>
      </geometry>
    </collision>
  </link>
  <joint name="/pipe0_link_1" type="fixed">
    <parent link="/base_link"/>
    <child link="/pipe0_1"/>
    <origin rpy="1.57079632679 0 -1.57079632679" xyz="0.0 -0.658 0.575"/>
    <axis xyz="0 0 1"/>
  </joint>
  <joint name="/pipe0_link_2" type="fixed">
    <parent link="/base_link"/>
    <child link="/pipe0_2"/>
    <origin rpy="1.57079632679 0 -1.57079632679" xyz="0.0 -0.658 0.725"/>
    <axis xyz="0 0 1"/>
  </joint>
  <link name="/pipe1_1">
    <inertial>
      <mass value="1"/>
      <origin rpy="0 0 0" xyz="0 0 0"/>
      <inertia ixx="0.1453" ixy="0.0" ixz="0.0" iyy="0.1453" iyz="0.0" izz="0.0002"/>
    </inertial>
    <visual>
      <geometry>
        <cylinder length="1.32" radius="0.02"/>
      </geometry>
      <material name="alu"/>
    </visual>
    <collision>
      <geometry>
        <cylinder length="1.32" radius="0.02"/>
      </geometry>
    </collision>
  </link>
  <link name="/pipe1_2">
    <inertial>
      <mass value="1"/>
      <origin rpy="0 0 0" xyz="0 0 0"/>
      <inertia ixx="0.1453" ixy="0.0" ixz="0.0" iyy="0.1453" iyz="0.0" izz="0.0002"/>
    </inertial>
    <visual>
      <geometry>
        <cylinder length="1.32" radius="0.02"/>
      </geometry>
      <material name="alu"/>
    </visual>
    <collision>
      <geometry>
        <cylinder length="1.32" radius="0.02"/>
      </geometry>
    </collision>
  </link>
  <joint name="/pipe1_link_1" type="fixed">
    <parent link="/base_link"/>
    <child link="/pipe1_1"/>
    <origin rpy="1.57079632679 0 1.57079632679" xyz="0.0 0.658 0.575"/>
    <axis xyz="0 0 1"/>
  </joint>
  <joint name="/pipe1_link_2" type="fixed">
    <parent link="/base_link"/>
    <child link="/pipe1_2"/>
    <origin rpy="1.57079632679 0 1.57079632679" xyz="0.0 0.658 0.725"/>
    <axis xyz="0 0 1"/>
  </joint>
  <link name="/bat0">
    <inertial>
      <mass value="12.88"/>
      <origin rpy="0 0 0" xyz="0 0 -0.25"/>
      <inertia ixx="0.342507106667" ixy="0.0" ixz="0.0" iyy="0.579579606667" iyz="0.0" izz="0.602998666667"/>
    </inertial>
    <visual>
      <origin rpy="0 0 0" xyz="0 0 0"/>
      <geometry>
        <mesh filename="package://loki_description/meshes/bat_enc_modules/836586-1-DUMMY-RevA.stl"/>
        <box size="0.530 0.245 0.509"/>
      </geometry>
      <material name="white"/>
    </visual>
    <collision>
      <geometry>
        <mesh filename="package://loki_description/meshes/bat_enc_modules/836586-1-DUMMY-RevA.stl"/>
        <box size="0.530 0.245 0.509"/>
      </geometry>
    </collision>
  </link>
  <joint name="/bat0_joint" type="fixed">
    <parent link="/base_link"/>
    <child link="/bat0"/>
    <origin rpy="0 0 3.14159265359" xyz="0.0 0.658 0.72"/>
    <axis xyz="0 0 1"/>
  </joint>
  <link name="/bat1">
    <inertial>
      <mass value="12.88"/>
      <origin rpy="0 0 0" xyz="0 0 -0.25"/>
      <inertia ixx="0.342507106667" ixy="0.0" ixz="0.0" iyy="0.579579606667" iyz="0.0" izz="0.602998666667"/>
    </inertial>
    <visual>
      <origin rpy="0 0 0" xyz="0 0 0"/>
      <geometry>
        <mesh filename="package://loki_description/meshes/bat_enc_modules/836586-1-DUMMY-RevA.stl"/>
        <box size="0.530 0.245 0.509"/>
      </geometry>
      <material name="white"/>
    </visual>
    <collision>
      <geometry>
        <mesh filename="package://loki_description/meshes/bat_enc_modules/836586-1-DUMMY-RevA.stl"/>
        <box size="0.530 0.245 0.509"/>
      </geometry>
    </collision>
  </link>
  <joint name="/bat1_joint" type="fixed">
    <parent link="/base_link"/>
    <child link="/bat1"/>
    <origin rpy="0 0 0" xyz="0.0 -0.658 0.72"/>
    <axis xyz="0 0 1"/>
  </joint>
  <link name="uvtun_frame">
    <inertial>
      <origin rpy="0 0 0" xyz="0 0 0"/>
      <mass value="1"/>
      <inertia ixx="1.0" ixy="0.0" ixz="0.0" iyy="1.0" iyz="0.0" izz="1.0"/>
    </inertial>
    <visual>
      <geometry>
        <mesh filename="package://loki_description/meshes/uv_frame/uv_arc.STL"/>
      </geometry>
      <material name="whiter">
        <color rgba="1 1 1 1"/>
      </material>
    </visual>
  </link>
  <joint name="/base_uvtun_frame" type="fixed">
    <parent link="/base_link"/>
    <child link="uvtun_frame"/>
    <origin rpy="1.57079632679 0 1.57079632679" xyz="-0.525 -0.66 0.5"/>
  </joint>
  <!-- GPS Sensors-->
  <link name="gps_front">
    <visual>
      <material name="sept_color">
        <color rgba="1 0.8 0 1"/>
      </material>
      <geometry>
        <cylinder length="0.05" radius="0.10"/>
      </geometry>
    </visual>
  </link>
  <link name="gps_back">
    <visual>
      <material name="sept_color">
        <color rgba="1 0.8 0 1"/>
      </material>
      <geometry>
        <cylinder length="0.05" radius="0.10"/>
      </geometry>
    </visual>
  </link>
  <joint name="/gps_back" type="fixed">
    <parent link="/base_link"/>
    <child link="gps_back"/>
    <origin rpy="0 0 0" xyz="-0.51 0 2.1"/>
  </joint>
  <joint name="/gps_front" type="fixed">
    <parent link="/base_link"/>
    <child link="gps_front"/>
    <origin rpy="0 0 0" xyz="0.51 0 2.1"/>
  </joint>
  <gazebo>
    <plugin filename="libhector_gazebo_ros_gps.so" name="gazebo_ros_gps">
      <alwaysOn>1</alwaysOn>
      <updateRate>4.0</updateRate>
      <bodyName>gps_front</bodyName>
      <frameId>front_gps</frameId>
      <topicName>gps_front/fix</topicName>
      <velocityTopicName>gps_front/fix_velocity</velocityTopicName>
      <drift>5.0 5.0 5.0</drift>
      <gaussianNoise>0.1 0.1 0.1</gaussianNoise>
      <velocityDrift>0 0 0</velocityDrift>
      <velocityGaussianNoise>0.1 0.1 0.1</velocityGaussianNoise>
    </plugin>
  </gazebo>
  <gazebo>
    <plugin filename="libhector_gazebo_ros_gps.so" name="gazebo_ros_gps">
      <alwaysOn>1</alwaysOn>
      <updateRate>4.0</updateRate>
      <bodyName>gps_back</bodyName>
      <frameId>back_gps</frameId>
      <topicName>gps_back/fix</topicName>
      <velocityTopicName>gps_back/fix_velocity</velocityTopicName>
      <drift>5.0 5.0 5.0</drift>
      <gaussianNoise>0.1 0.1 0.1</gaussianNoise>
      <velocityDrift>0 0 0</velocityDrift>
      <velocityGaussianNoise>0.1 0.1 0.1</velocityGaussianNoise>
    </plugin>
  </gazebo>
  <!--Laser Sensors-->
  <link name="/hokuyo_front">
    <collision>
      <origin rpy="0 0 0" xyz="0 0 0"/>
      <geometry>
        <box size="0.1 0.1 0.1"/>
      </geometry>
    </collision>
    <visual>
      <origin rpy="0 0 0" xyz="0 0 0"/>
      <geometry>
        <mesh filename="package://loki_description/meshes/hokuyo/hokuyo.dae"/>
      </geometry>
    </visual>
    <inertial>
      <mass value="1e-5"/>
      <origin rpy="0 0 0" xyz="0 0 0"/>
      <inertia ixx="1e-6" ixy="0" ixz="0" iyy="1e-6" iyz="0" izz="1e-6"/>
    </inertial>
  </link>
  <link name="/hokuyo_back">
    <collision>
      <origin rpy="0 0 0" xyz="0 0 0"/>
      <geometry>
        <box size="0.1 0.1 0.1"/>
      </geometry>
    </collision>
    <visual>
      <origin rpy="0 0 0" xyz="0 0 0"/>
      <geometry>
        <mesh filename="package://loki_description/meshes/hokuyo/hokuyo.dae"/>
      </geometry>
    </visual>
    <inertial>
      <mass value="1e-5"/>
      <origin rpy="0 0 0" xyz="0 0 0"/>
      <inertia ixx="1e-6" ixy="0" ixz="0" iyy="1e-6" iyz="0" izz="1e-6"/>
    </inertial>
  </link>
  <joint name="base_sens_hokuyo_front" type="fixed">
    <parent link="/top1"/>
    <child link="/hokuyo_front"/>
    <axis xyz="0 1 0"/>
    <origin rpy="0.0 0.0 -0.79" xyz="0.172 -0.152 -0.034"/>
  </joint>
  <joint name="base_sens_hokuyo_back" type="fixed">
    <parent link="/top3"/>
    <child link="/hokuyo_back"/>
    <axis xyz="0 1 0"/>
    <origin rpy="0.0 0.0 -0.79" xyz="0.172 -0.152 -0.034"/>
  </joint>
  <gazebo reference="/hokuyo_front">
    <sensor name="_head_hokuyo_front_sensor" type="ray">
      <pose>0 0 0 0 0 0</pose>
      <visualize>true</visualize>
      <update_rate>40</update_rate>
      <always_on>1</always_on>
      <ray>
        <scan>
          <horizontal>
            <samples>720</samples>
            <resolution>1</resolution>
            <min_angle>-2.18</min_angle>
            <max_angle>2.36</max_angle>
          </horizontal>
        </scan>
        <range>
          <min>0.10</min>
          <max>30.0</max>
          <resolution>0.01</resolution>
        </range>
        <noise>
          <type>gaussian</type>
          <!-- Noise parameters based on published spec for Hokuyo laser
               achieving "+-30mm" accuracy at range < 10m.  A mean of 0.0m and
               stddev of 0.01m will put 99.7% of samples within 0.03m of the true
               reading. -->
          <mean>0.0</mean>
          <stddev>0.01</stddev>
        </noise>
      </ray>
      <plugin filename="libgazebo_ros_laser.so" name="_hokuyo_front_node">
        <topicName>scan_front</topicName>
        <frameName>hokuyo_front</frameName>
      </plugin>
    </sensor>
  </gazebo>
  <gazebo reference="/hokuyo_back">
    <sensor name="_head_hokuyo_back_sensor" type="ray">
      <pose>0 0 0 0 0 0</pose>
      <visualize>true</visualize>
      <update_rate>40</update_rate>
      <always_on>1</always_on>
      <ray>
        <scan>
          <horizontal>
            <samples>720</samples>
            <resolution>1</resolution>
            <min_angle>-2.18</min_angle>
            <max_angle>2.36</max_angle>
          </horizontal>
        </scan>
        <range>
          <min>0.10</min>
          <max>30.0</max>
          <resolution>0.01</resolution>
        </range>
        <noise>
          <type>gaussian</type>
          <!-- Noise parameters based on published spec for Hokuyo laser
               achieving "+-30mm" accuracy at range < 10m.  A mean of 0.0m and
               stddev of 0.01m will put 99.7% of samples within 0.03m of the true
               reading. -->
          <mean>0.0</mean>
          <stddev>0.01</stddev>
        </noise>
      </ray>
      <plugin filename="libgazebo_ros_laser.so" name="_hokuyo_back_node">
        <topicName>scan_back</topicName>
        <frameName>hokuyo_back</frameName>
      </plugin>
    </sensor>
  </gazebo>
  <gazebo>
    <plugin filename="libgazebo_ros_control.so" name="gazebo_ros_control">
      <!--<robotNamespace>/${robot_name}</robotNamespace>-->
    </plugin>
  </gazebo>

</robot>
